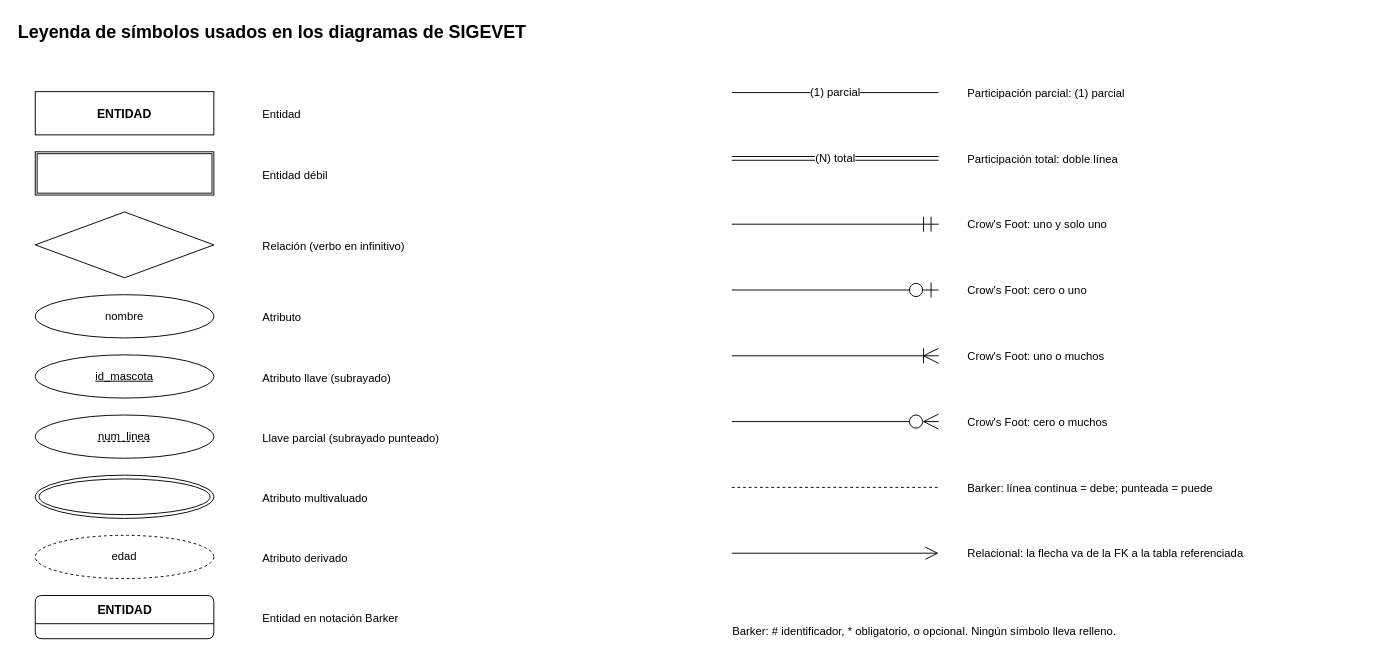
This 1376x671 diagram has some shape labels left out. The box of each missing label's shape, as (x1, y1, x2, y2) in pixels:
DETALLE_FACTURA: (34, 151, 214, 195)
telefono: (34, 474, 214, 518)
TENER: (34, 211, 214, 278)
